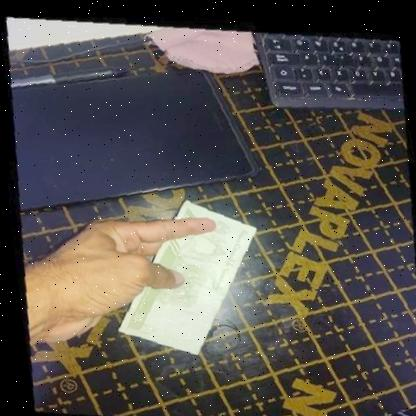fifty-back-vef: (98, 183, 272, 365)
